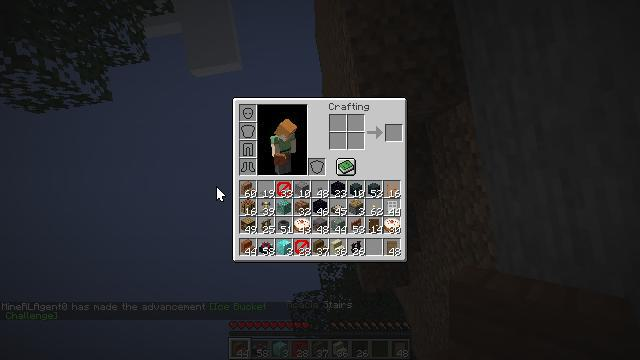cursor: (216, 186, 226, 202)
